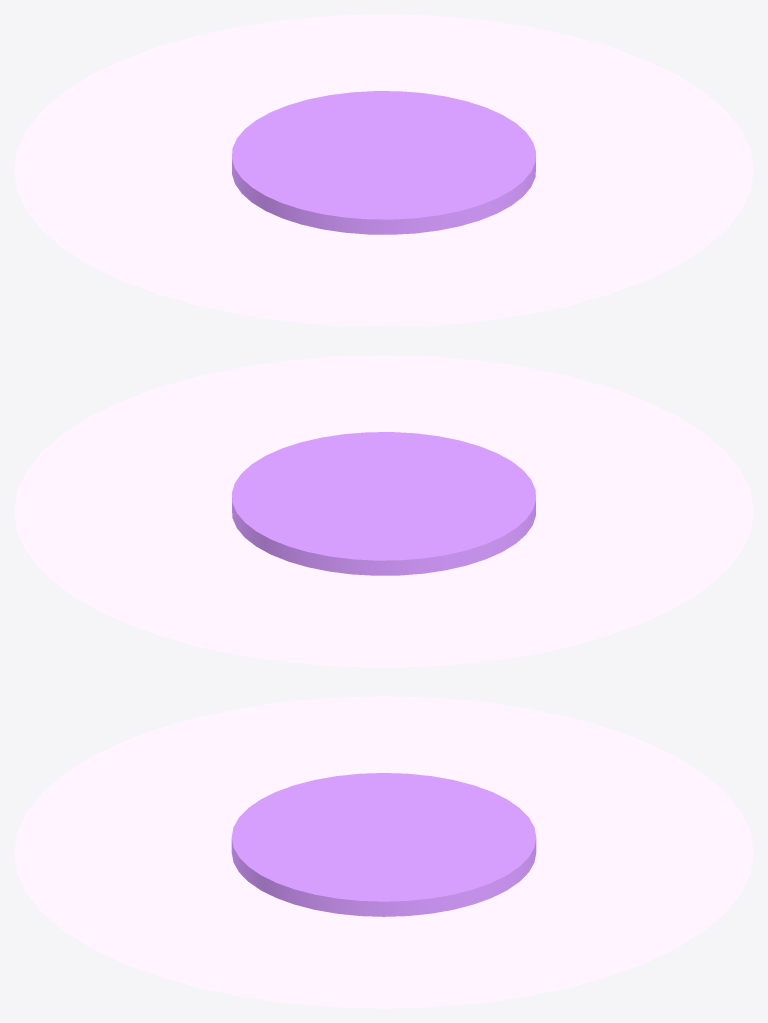
Rendered from pad-a855f7.glb.
3 renders of one model, top to bottom at view 1: azimuth 30°, elevation 25°; view 2: azimuth 150°, elevation 25°; view 3: azimuth 270°, elevation 25°, orthographic.
Visible parts, largest first — view 1: plat; view 2: plat; view 3: plat.
Part boxes in pixels (bbox=[...]): plat: bbox=[14, 14, 753, 326]; plat: bbox=[14, 355, 753, 667]; plat: bbox=[14, 696, 753, 1008].
Bounding box in the file's own units: 3.4 × 0.08 × 3.4.
2 materials, 2 textured.
